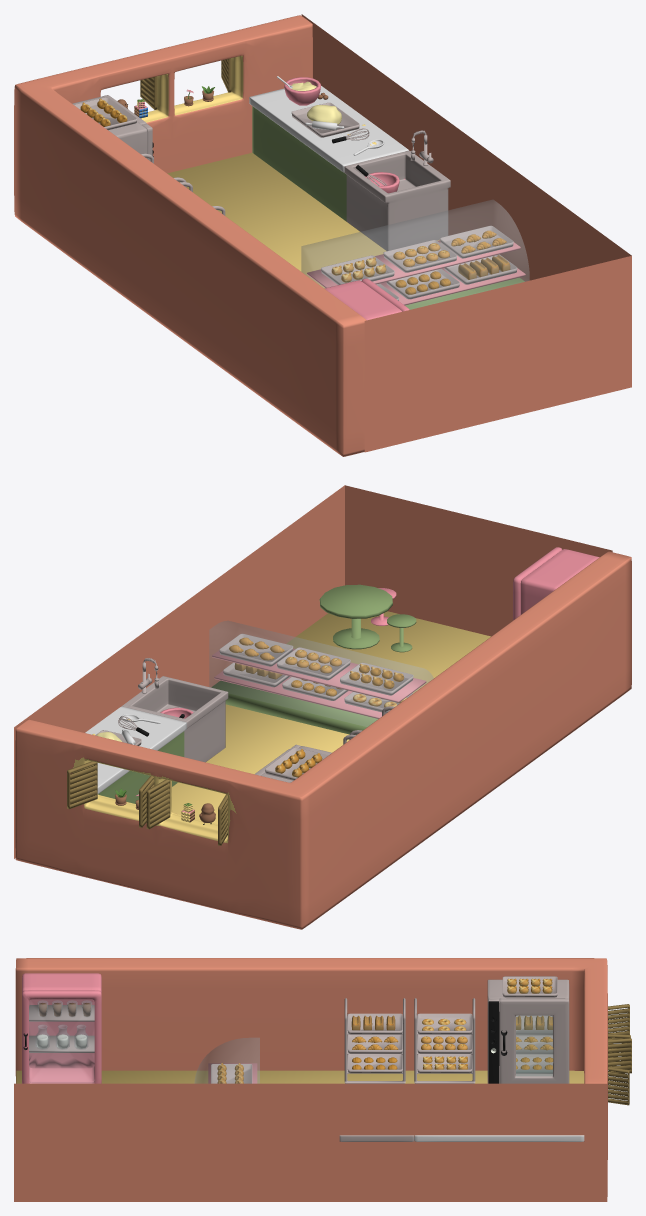
File: v05_front.fbx
The picture shows the model from 3 angles, top to bottom: view 1: azimuth 30°, elevation 25°; view 2: azimuth 150°, elevation 25°; view 3: azimuth 270°, elevation 25°; orthographic projection. The views are drawn at different scales.
Visible parts, largest first — view 1: wall.001, bear bun.002, Catloaf.001, cross bread.002, bun.001; view 2: wall.001, bear bun.002, cross bread.002; view 3: wall.001, bear bun.002, Catloaf.001, croissant.001, bun.001, cross bread.002, bagel.002.
Boxes of the visible parts, x1,y1,x2,y2 form: wall.001: (14,14,631,456); bear bun.002: (80,98,386,282); Catloaf.001: (458,255,510,279); cross bread.002: (393,243,449,266); bun.001: (395,271,450,294); wall.001: (14,485,631,929); bear bun.002: (275,664,404,777); cross bread.002: (285,649,341,673); wall.001: (14,958,631,1201); bear bun.002: (217,978,552,1083); Catloaf.001: (351,1015,552,1030); croissant.001: (352,1036,553,1050); bun.001: (352,1057,553,1069); cross bread.002: (421,1036,467,1049); bagel.002: (422,1018,466,1030).
Size of the model in its own units: 846 by 370 by 1740.
